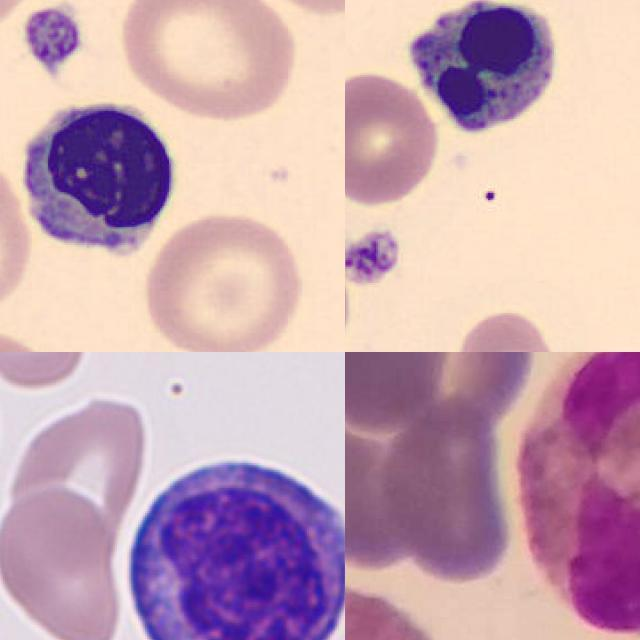Eosinophil: (513, 352, 640, 638)
Lymphocyte: (115, 440, 345, 640), (11, 90, 187, 266)
Neutrophil: (395, 0, 566, 141)
Platelets: (23, 0, 78, 73), (345, 224, 401, 288)
RBC: (3, 387, 154, 568), (138, 206, 305, 352), (113, 0, 302, 125), (0, 479, 125, 640), (0, 213, 136, 352), (345, 66, 443, 209), (0, 144, 35, 324), (449, 304, 571, 352)
